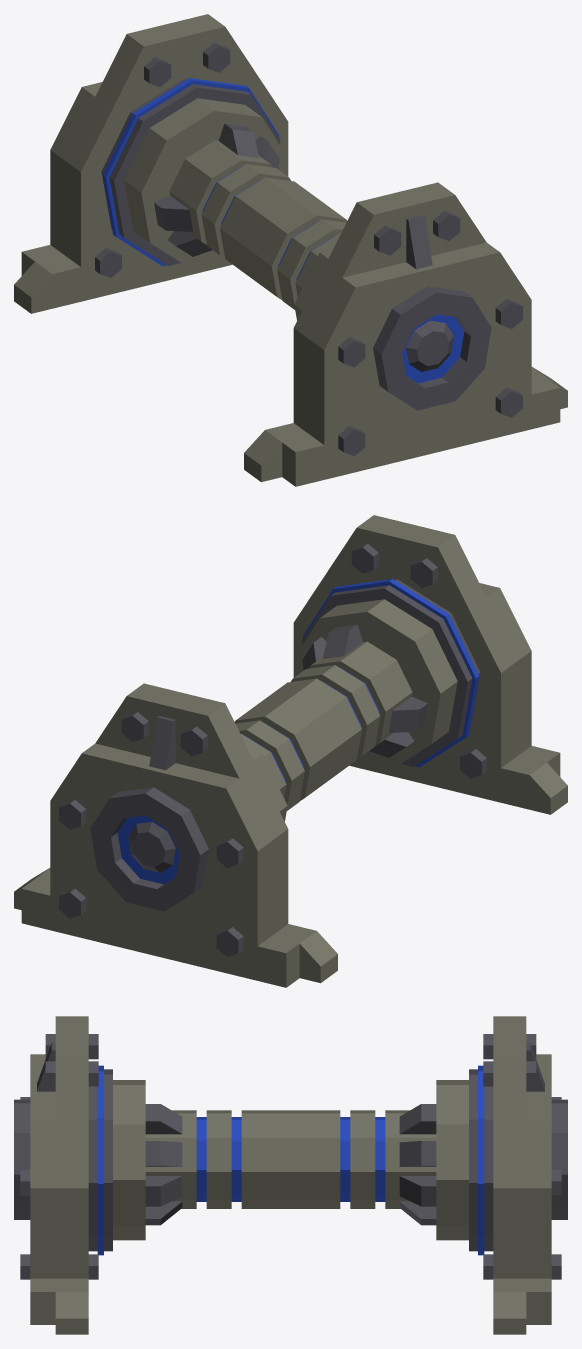
Rendered from LPSciFiCharacter_MachineryA.fbx.
3 views of the same model, one above another, from view 1: azimuth 30°, elevation 25°; view 2: azimuth 150°, elevation 25°; view 3: azimuth 270°, elevation 25° (orthographic). The views are drawn at different scales.
Parts seen in each view (by area): view 1: MachineryA; view 2: MachineryA; view 3: MachineryA.
Boxes of the visible parts, left/top/right/bottom form: MachineryA: left=14, top=14, right=567, bottom=486; MachineryA: left=14, top=515, right=567, bottom=987; MachineryA: left=14, top=1016, right=567, bottom=1334.
Bounding box in the file's own units: 296 × 221 × 486.
